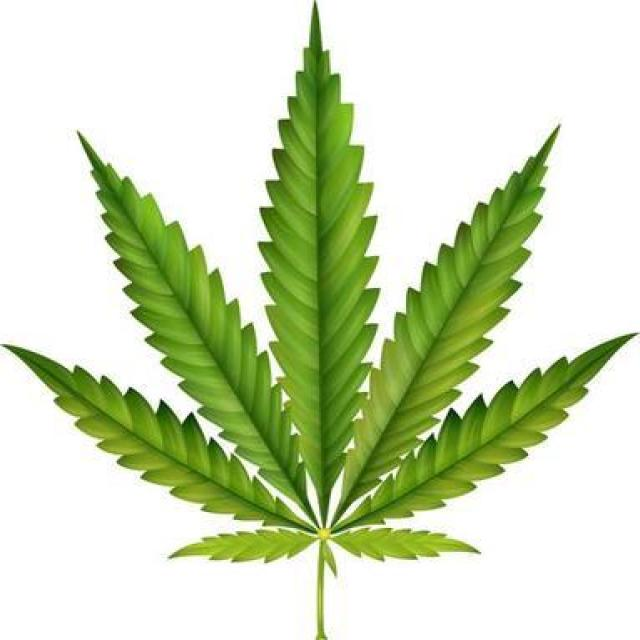cannabis: (2, 0, 638, 638)
